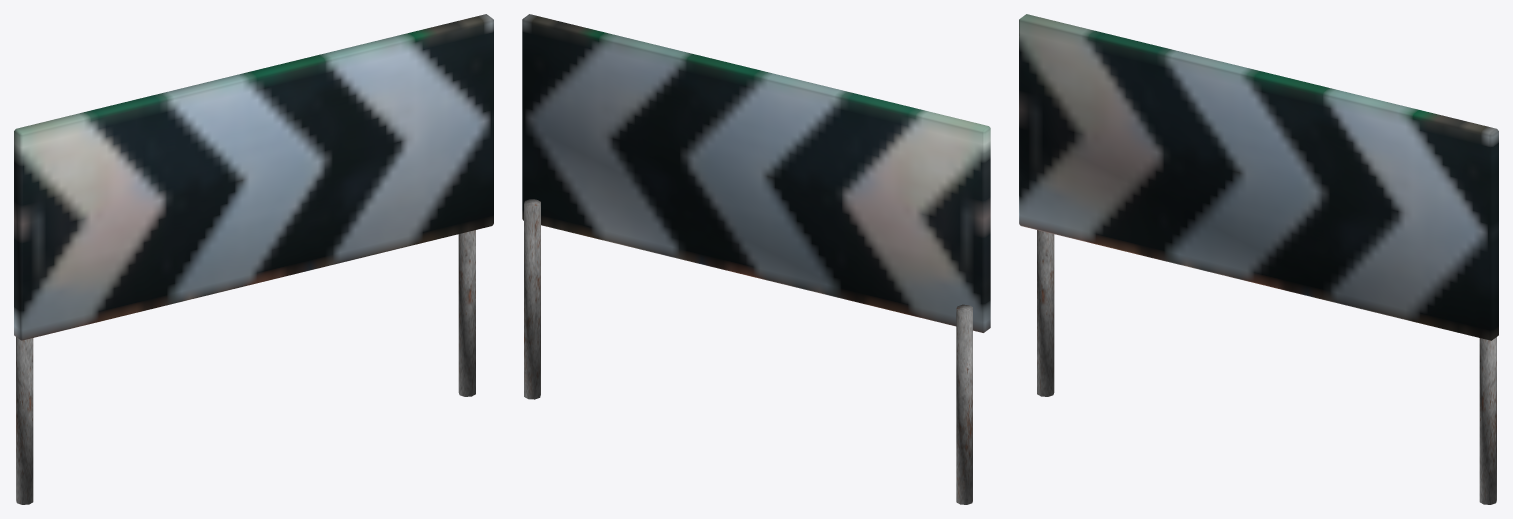
File: slide.fbx
3 views of the same model, side by side, from view 1: azimuth 30°, elevation 25°; view 2: azimuth 150°, elevation 25°; view 3: azimuth 330°, elevation 25° (orthographic). The views are drawn at different scales.
Visible parts, largest first — view 1: Cube.007; view 2: Cube.007; view 3: Cube.007.
Part boxes in pixels (x1,y1,x2,y2): Cube.007: [14, 14, 493, 504]; Cube.007: [522, 14, 990, 504]; Cube.007: [1019, 14, 1498, 504].
Bounding box in the file's own units: 300 × 230 × 17.93.
